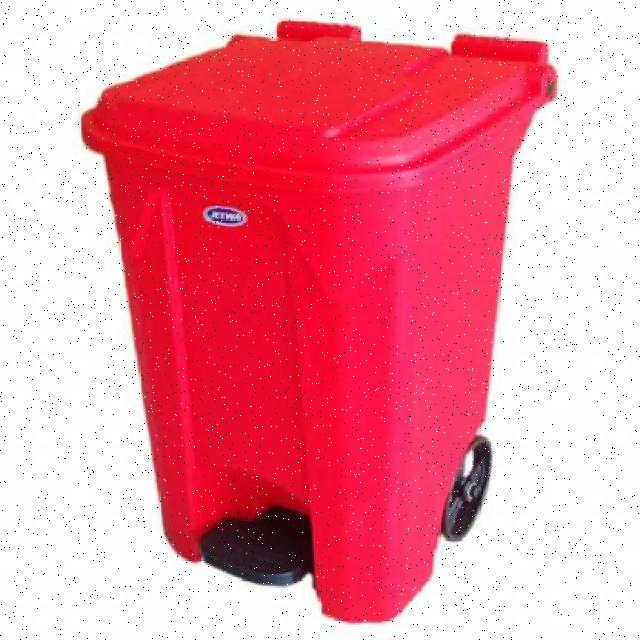garbage container: (67, 12, 576, 625)
